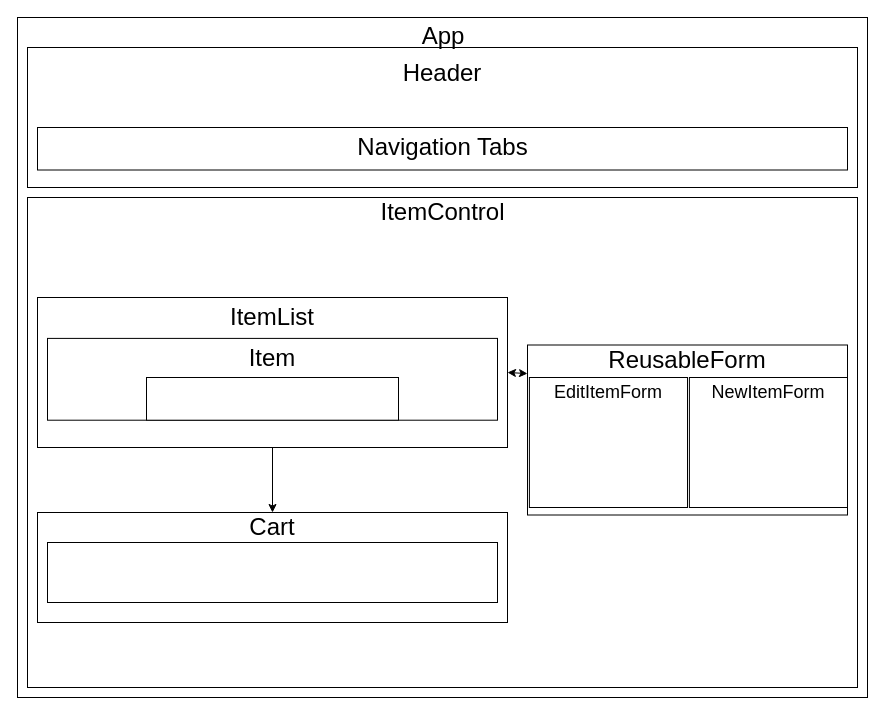
Some shapes in this 885 by 715 pixel diagram are drawn without their labels. Here are the shapes that lost their labels. From the top down, the centre of each, then its label:
At pixel 272 398: "ItemDetail".
At pixel 272 572: "CartItem".
